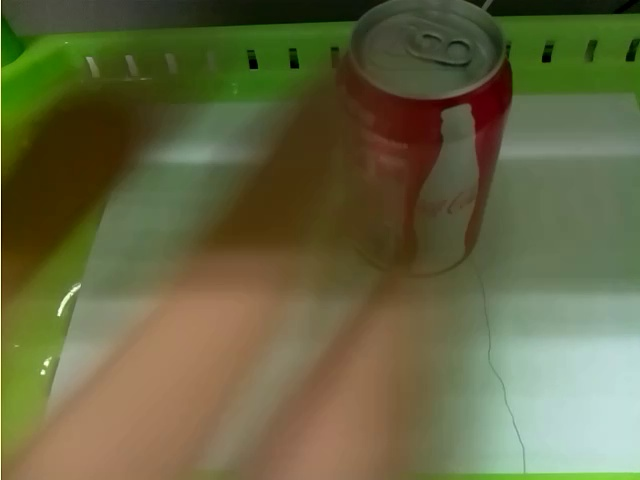cocacola: (341, 5, 514, 275)
hand: (3, 67, 433, 480)
